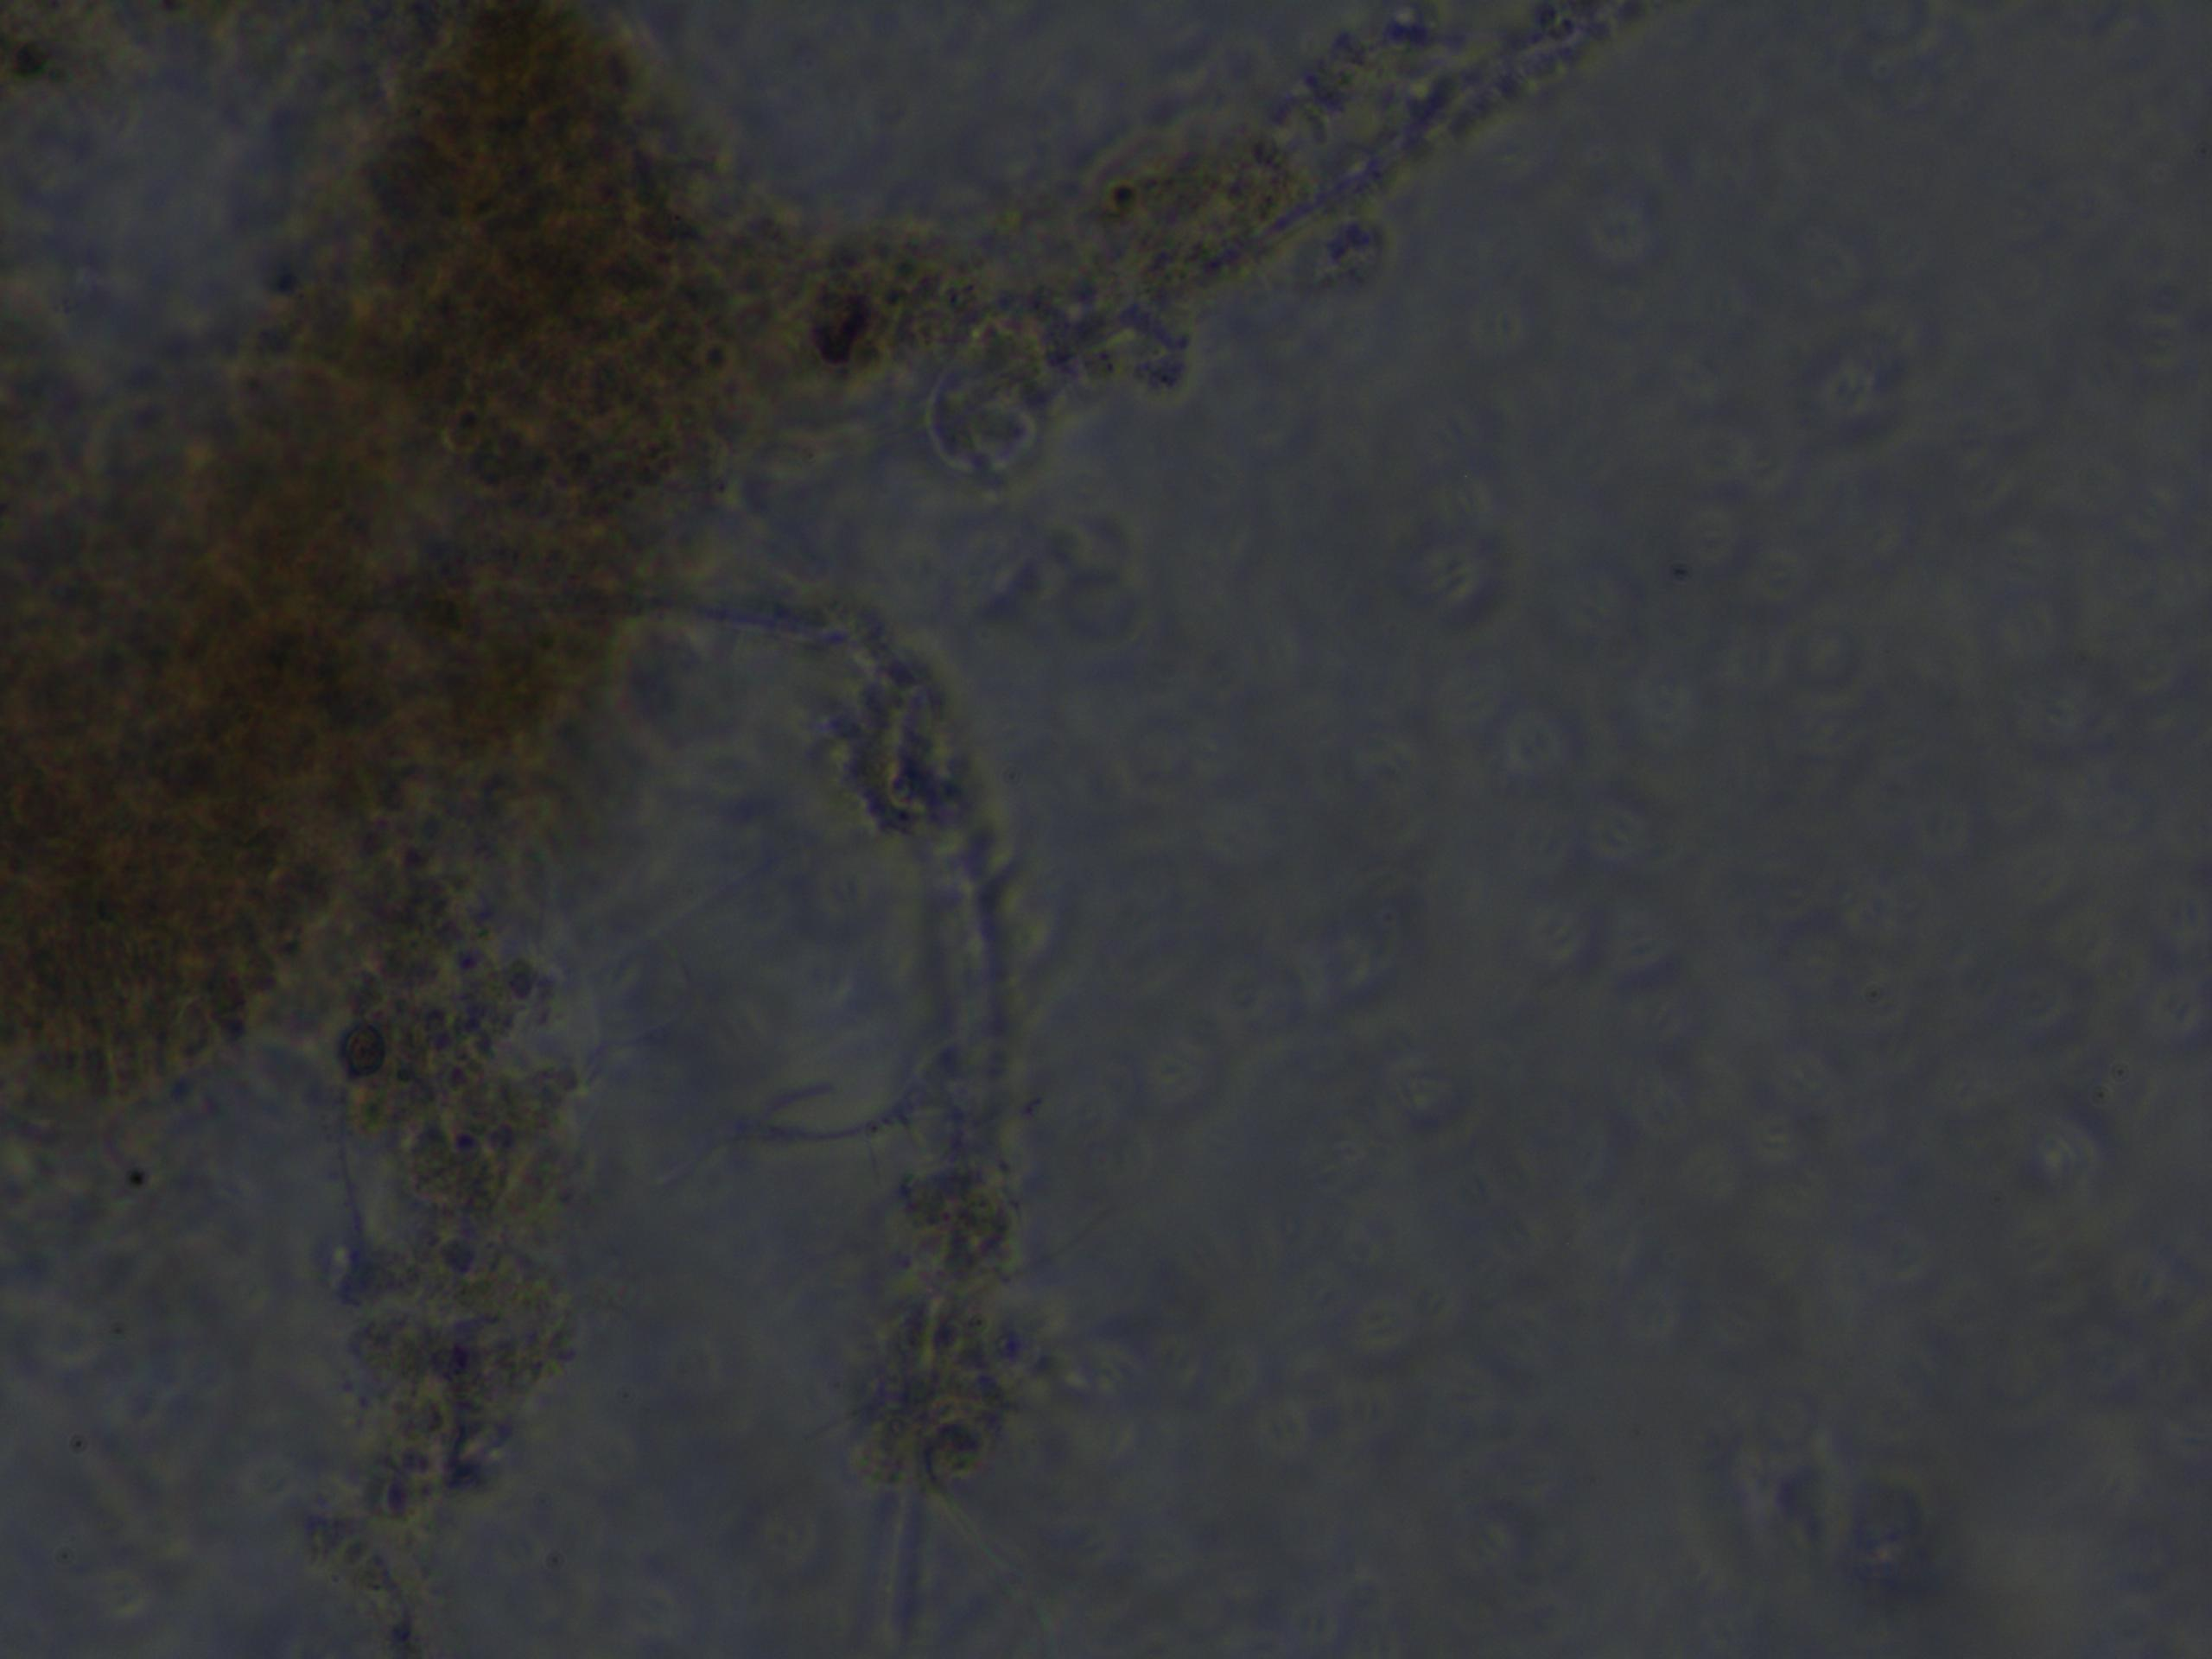filament: (824, 0, 1662, 497), (714, 575, 1049, 1659)
